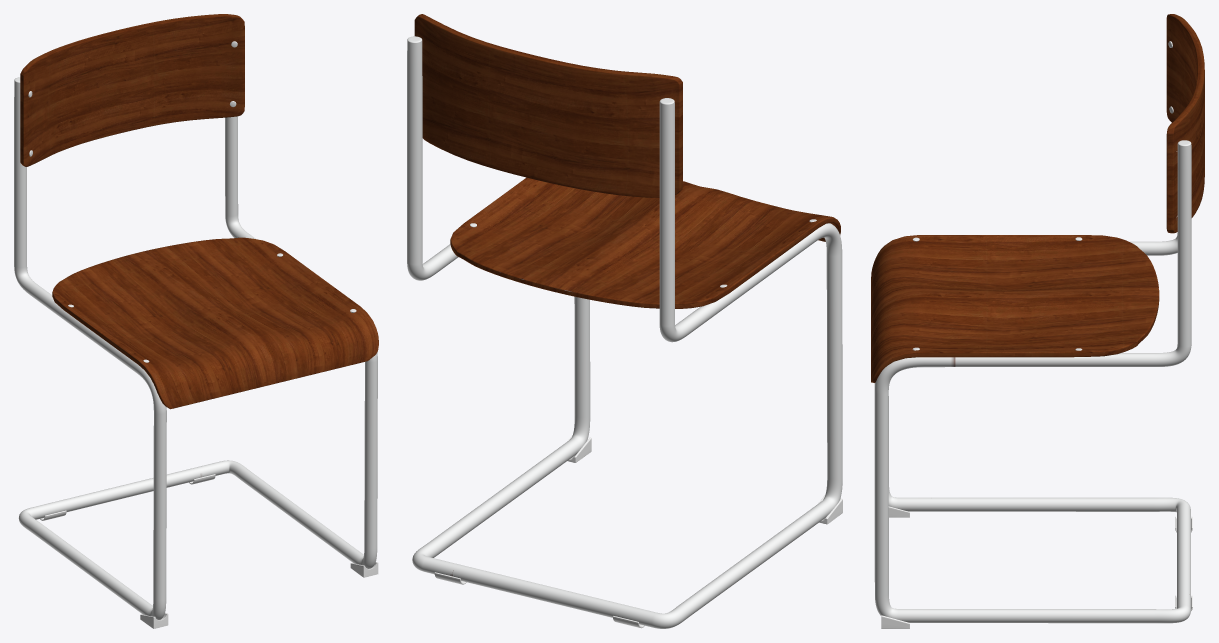
Rendered from MEGA_PACK_Chair__chair-545882_frame_walnut.glb.
The picture shows the model from 3 angles, left to right: view 1: azimuth 30°, elevation 25°; view 2: azimuth 150°, elevation 25°; view 3: azimuth 270°, elevation 25°; orthographic projection. The views are drawn at different scales.
Visible parts, largest first — view 1: chair-545882_frame_walnut; view 2: chair-545882_frame_walnut; view 3: chair-545882_frame_walnut.
Part boxes in pixels (x1,y1,x2,y2): chair-545882_frame_walnut: (14, 14, 378, 628); chair-545882_frame_walnut: (407, 14, 842, 628); chair-545882_frame_walnut: (871, 14, 1204, 628).
Bounding box in the file's own units: 0.3951 × 0.7757 × 0.4678.
Materials: 1 (1 with a texture image).
